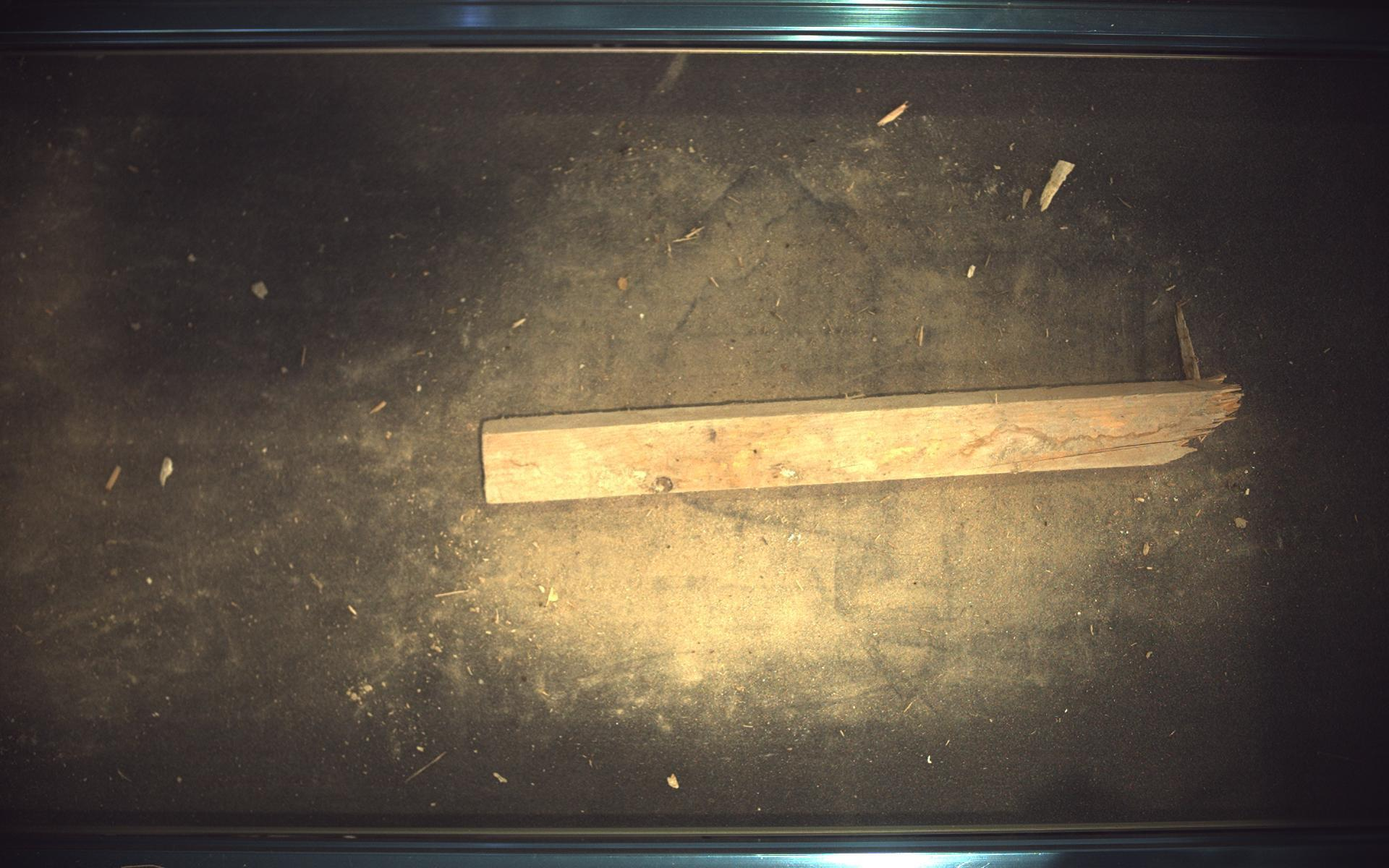wood: (482, 302, 1246, 504)
